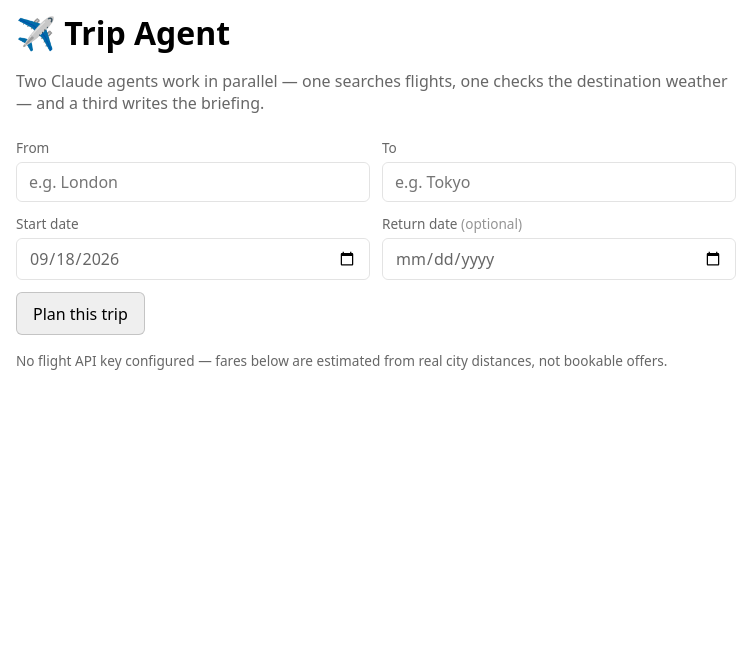
request › posts the trip as JSON with a null return date for a one-way trip
Type "Chennai" into the field labelled "From" at (193, 182), box [16, 162, 370, 202]
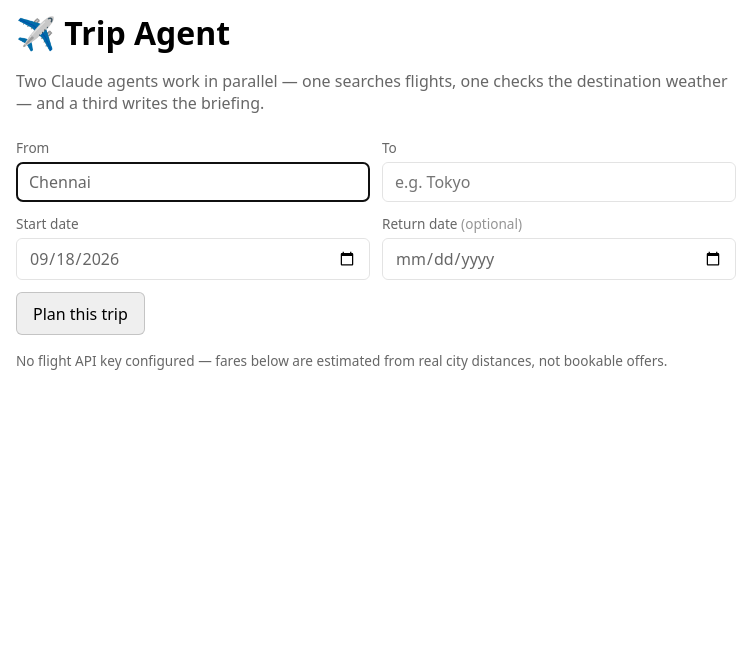
Type "Tokyo" into the field labelled "To" at (559, 182), box [382, 162, 736, 202]
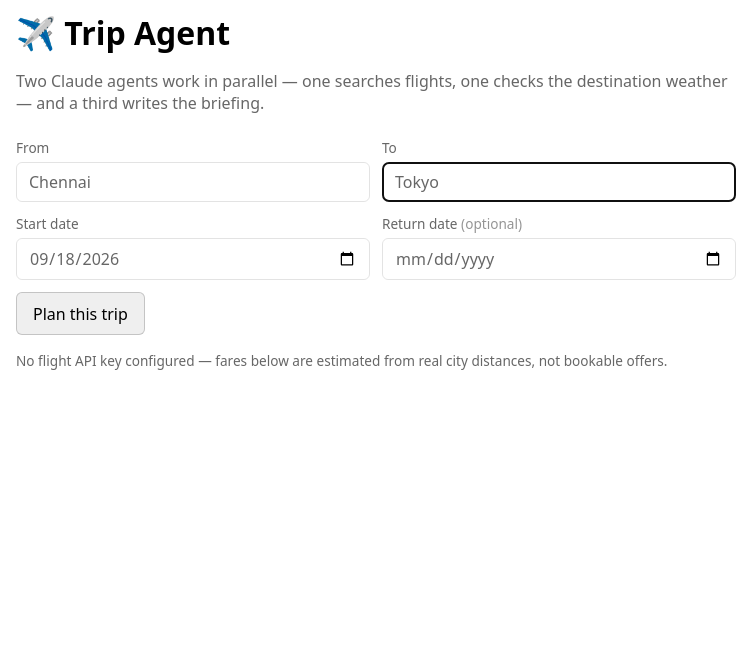
Type "2027-03-10" into the date field labelled "Start date" at (193, 259), box [16, 238, 370, 280]
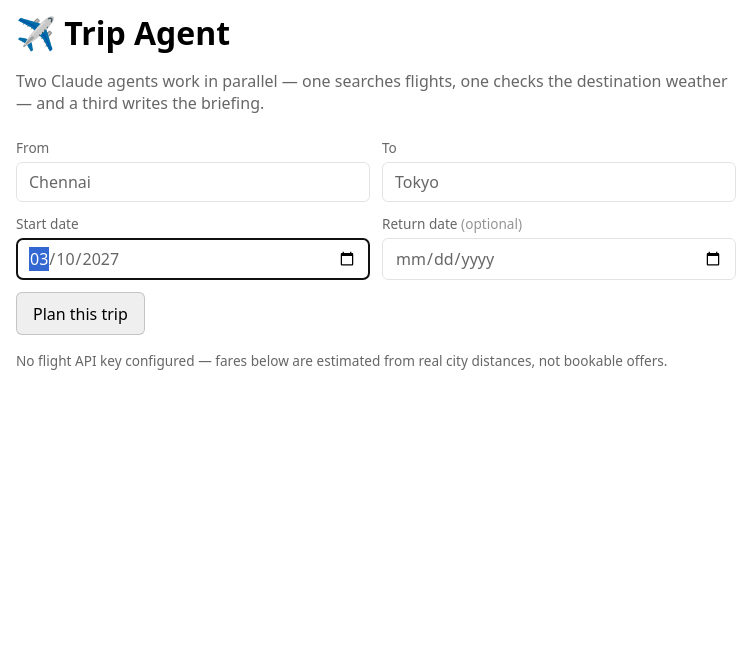
Click the button "Plan this trip" at (80, 314), box [16, 292, 145, 335]
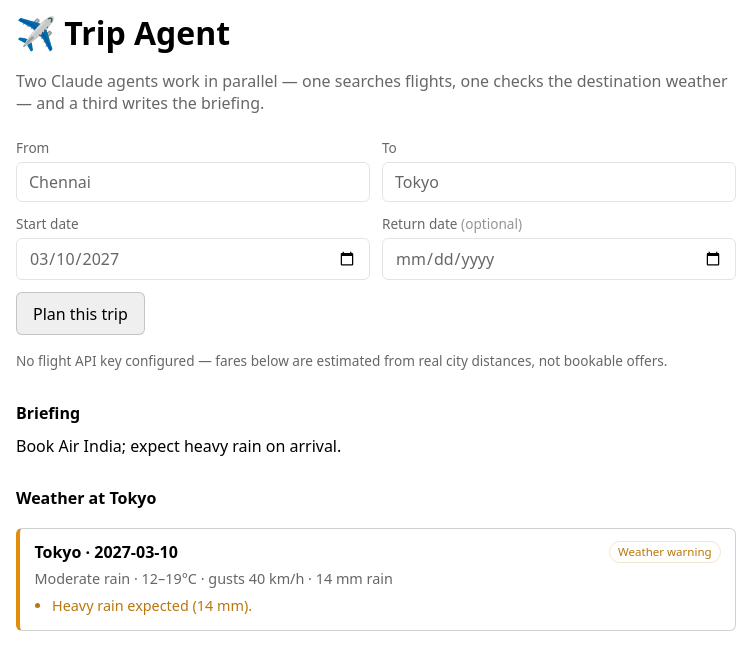
Expected: the text "Book Air India; expect heavy rain on arrival." is shown, [16, 435, 341, 457]
